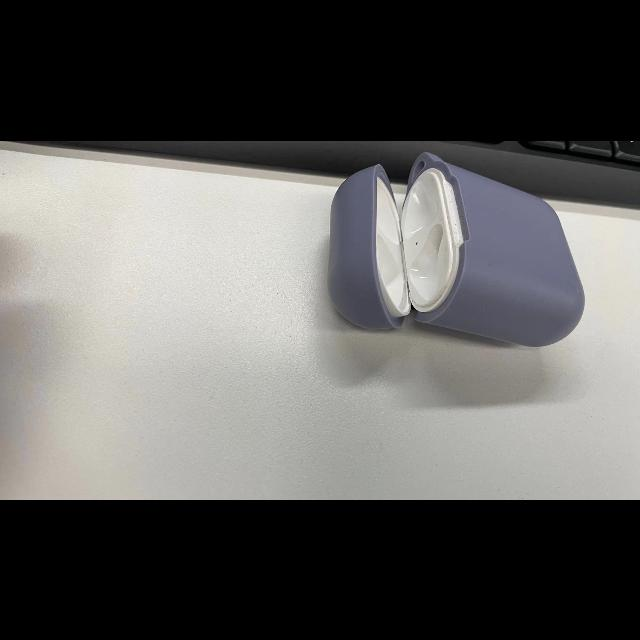airpods: (329, 150, 588, 347)
